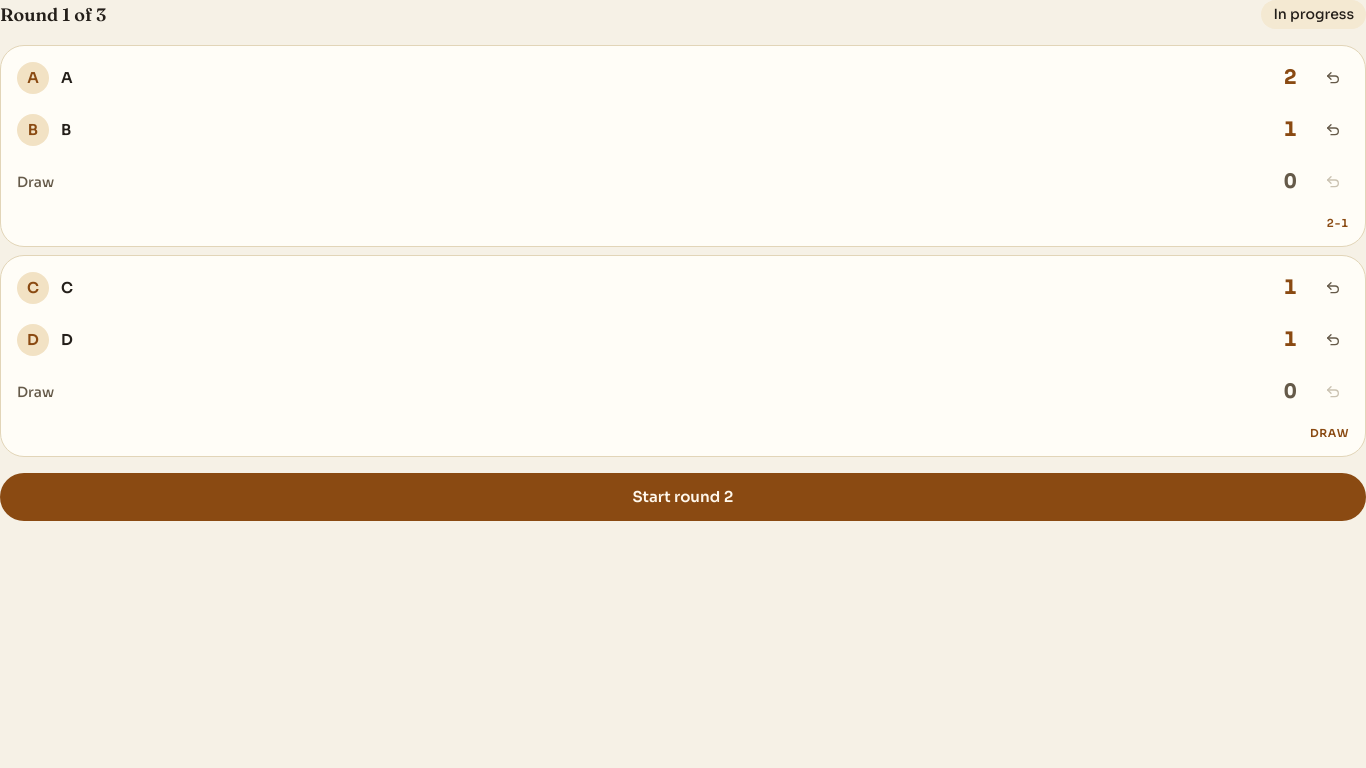
Scenario: RoundScreen › unfinished-looking scores › asks before starting the next round, naming the match and its score
Click the button "Start round 2".
click(683, 497)  # box [0,473,1365,521]
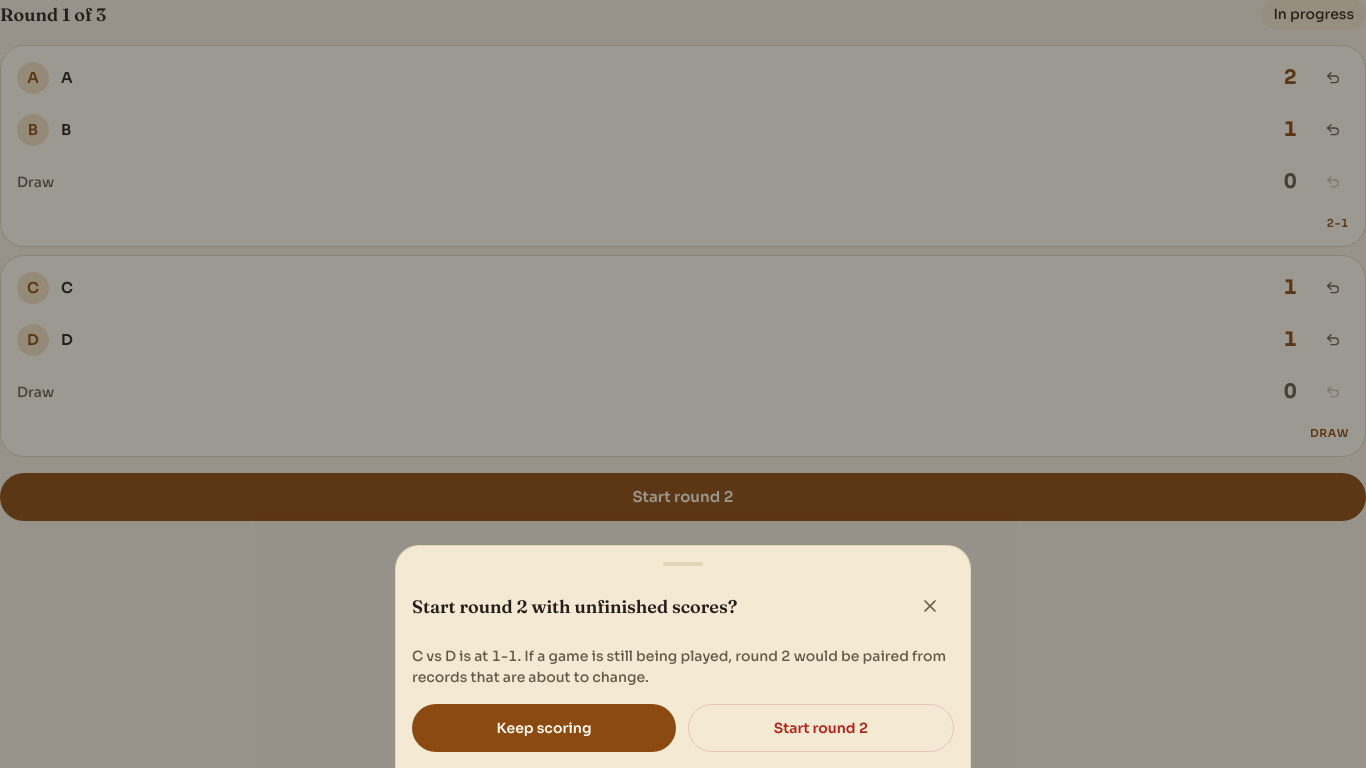
Check: the dialog shows "Start round 2 with unfinished scores?", box [412,594,737,618]
Check: the dialog shows "C vs D is at 1-1", box [412,647,946,686]
